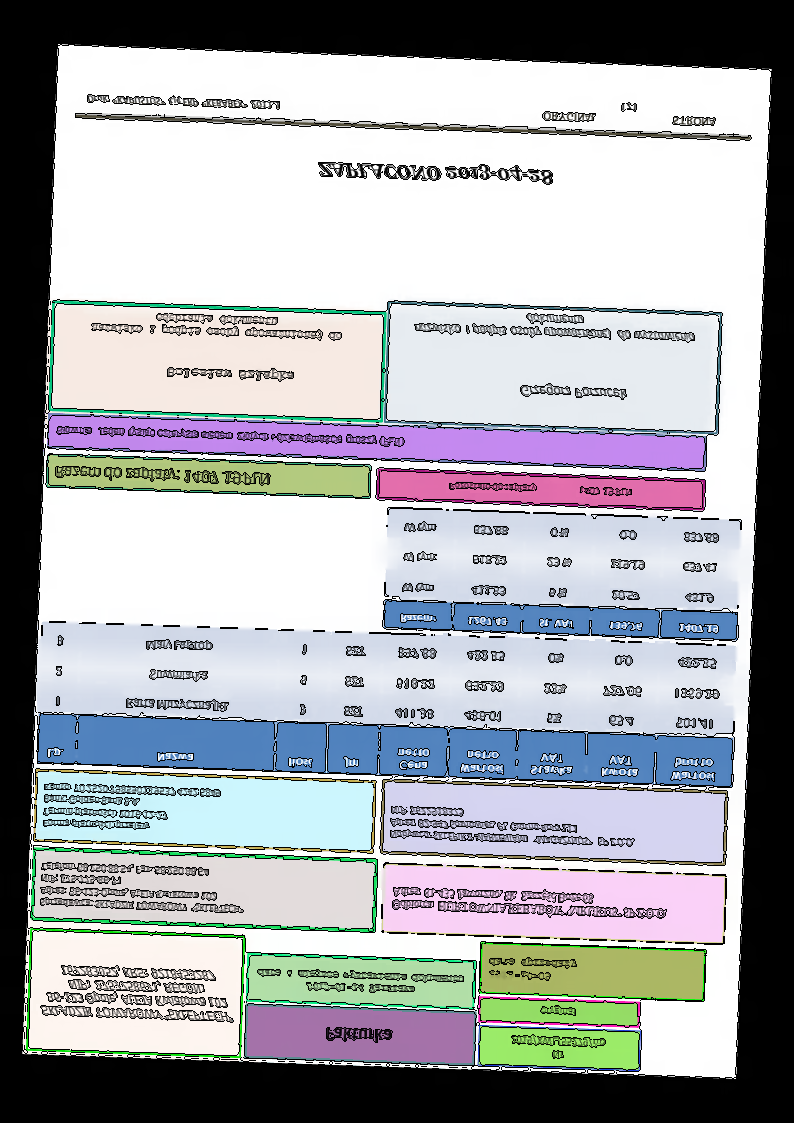Table: (35, 619, 737, 790), (382, 506, 743, 644)
TextBox: (38, 963, 238, 1026), (37, 859, 248, 918), (387, 802, 638, 850), (388, 884, 670, 924), (412, 306, 697, 345), (39, 780, 223, 838), (54, 423, 406, 451), (88, 310, 345, 344), (314, 155, 556, 189), (255, 965, 466, 998), (539, 96, 720, 131), (51, 462, 271, 490), (84, 91, 283, 114), (445, 478, 635, 501), (507, 1031, 606, 1065), (163, 362, 295, 386), (485, 953, 580, 984), (517, 382, 629, 403), (322, 1024, 394, 1046), (538, 1004, 579, 1019)
